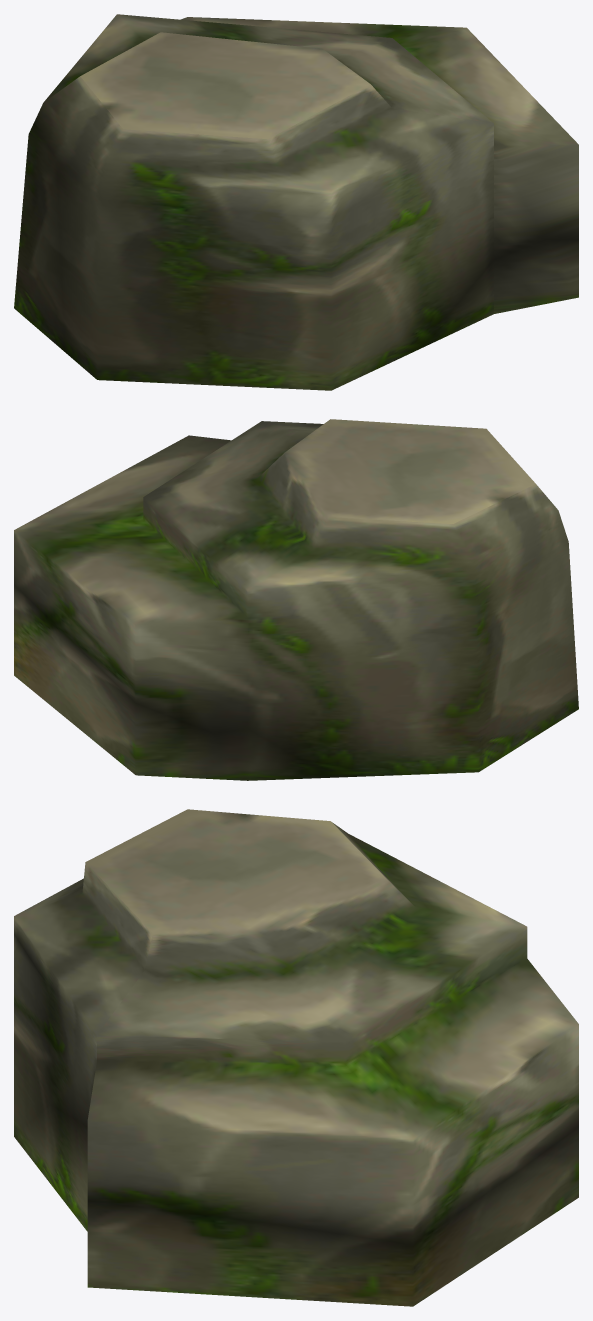
Rendered from RockFormation_4_5 (8).fbx.
The picture shows the model from 3 angles, top to bottom: view 1: azimuth 30°, elevation 25°; view 2: azimuth 150°, elevation 25°; view 3: azimuth 270°, elevation 25°; orthographic projection. The views are drawn at different scales.
Parts seen in each view (by area): view 1: RockFormation_4_5 (8); view 2: RockFormation_4_5 (8); view 3: RockFormation_4_5 (8).
Boxes of the visible parts, box(x1,y1,x2,y2) form: RockFormation_4_5 (8): box(14, 14, 578, 390); RockFormation_4_5 (8): box(14, 419, 578, 780); RockFormation_4_5 (8): box(14, 809, 578, 1306).
Size of the model in its own units: 311 by 145 by 288.
